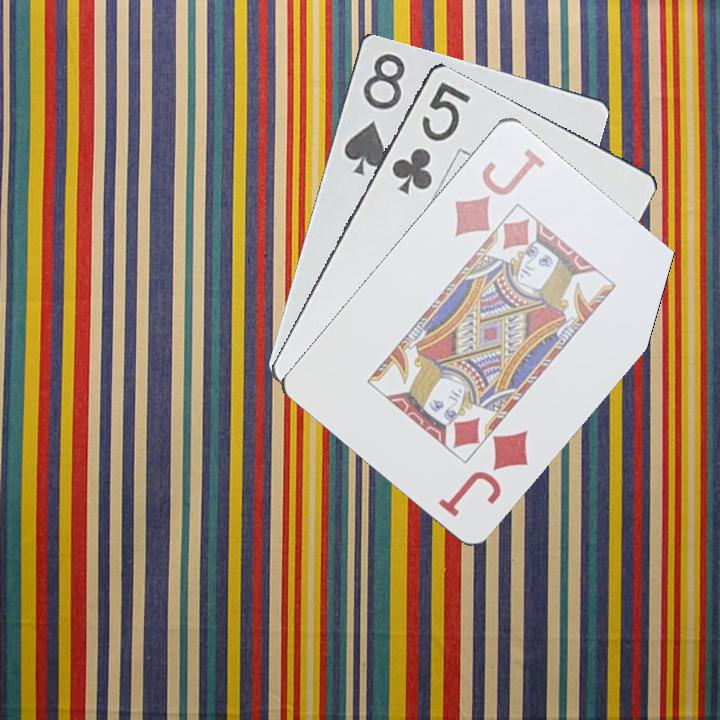5c: (387, 77, 474, 197)
8s: (340, 49, 408, 178)
Jd: (450, 143, 547, 240), (434, 425, 532, 520)
